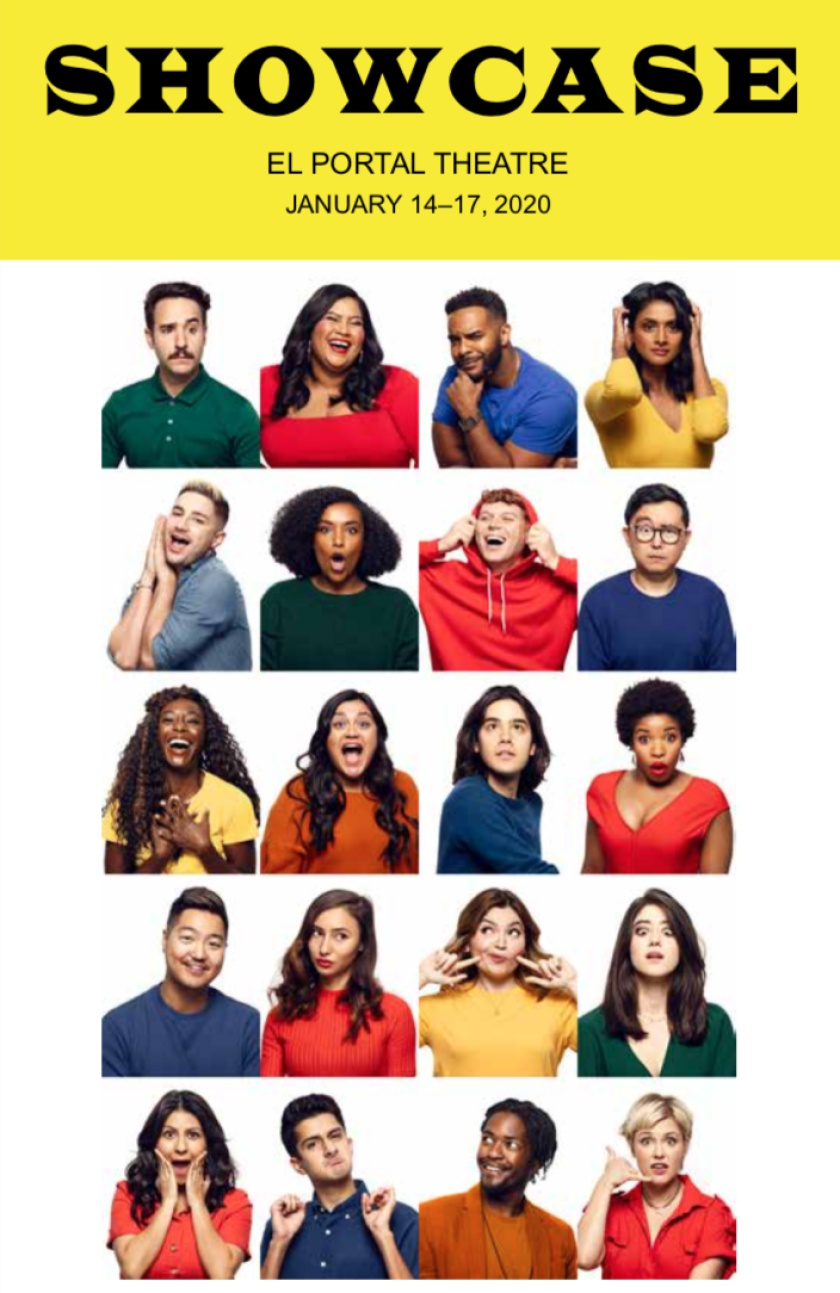bad: (170, 923, 232, 986), (474, 709, 536, 771), (149, 308, 211, 370), (308, 516, 370, 578), (294, 910, 356, 972), (467, 1117, 529, 1179), (626, 910, 688, 972), (325, 712, 377, 764), (152, 706, 204, 758), (440, 320, 492, 372), (314, 303, 366, 355), (469, 504, 521, 556), (475, 919, 527, 971), (631, 723, 682, 775), (152, 1121, 204, 1172), (631, 1126, 682, 1178), (302, 1121, 354, 1172), (631, 308, 682, 360), (158, 499, 210, 550), (631, 516, 682, 568)
